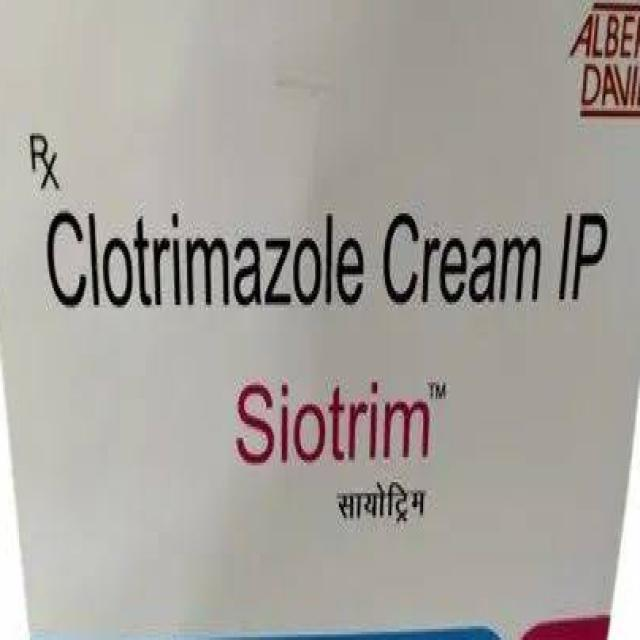drug-name: (234, 376, 448, 471)
